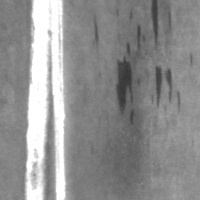inclusion: (114, 50, 138, 117), (154, 64, 182, 110), (141, 1, 162, 50), (91, 17, 104, 51)
scratches: (21, 1, 68, 200)
